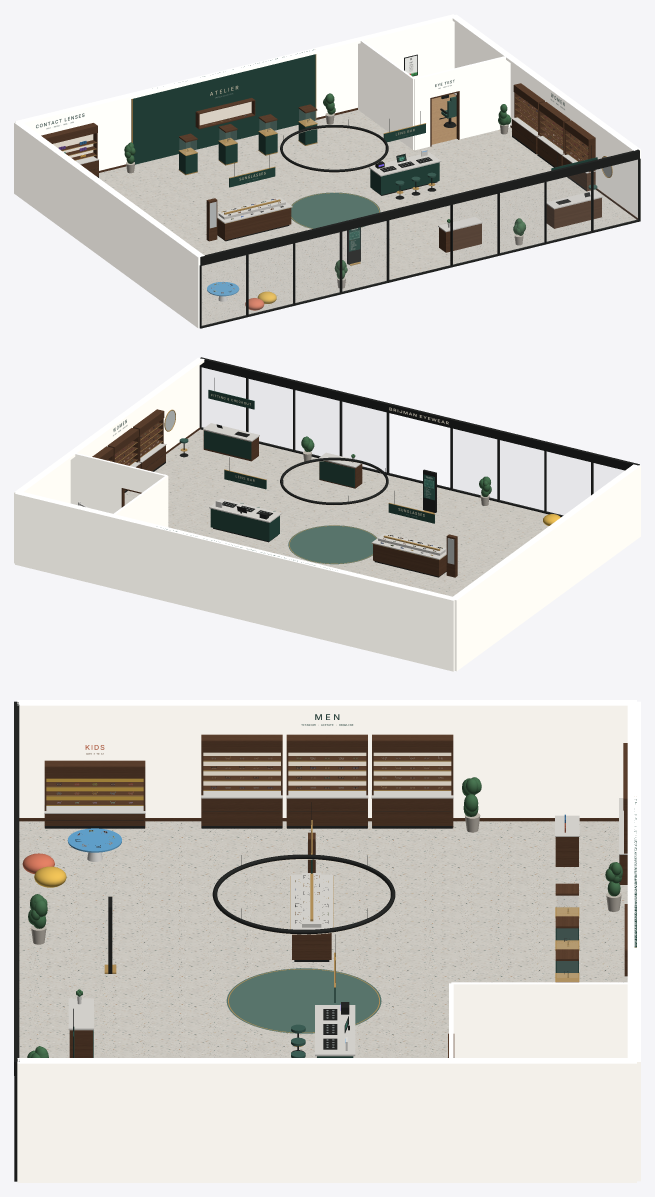
Rendered from Brijman_Showroom.glb.
The picture shows the model from 3 angles, top to bottom: view 1: azimuth 30°, elevation 25°; view 2: azimuth 150°, elevation 25°; view 3: azimuth 270°, elevation 25°; orthographic projection. The views are drawn at different scales.
Visible parts, largest first — view 1: Floor_Terrazzo, Store_Shell_Walls, Atelier_Feature_Wall_Green_Fluted, Eye_Test_Room_Walls, Storefront_Black_Metal, Ring_Light_and_Rug_Rug, Sunglasses_Island_Walnut, Women_Wall_Bay_1_Walnut, Women_Wall_Bay_2_Walnut, Women_Wall_Bay_3_Walnut, Lens_Bar_Green_Fluted, Contacts_Wall_Bay_Walnut (+9 smaller); view 2: Store_Shell_Walls, Floor_Terrazzo, Storefront_Black_Metal, Eye_Test_Room_Walls, Ring_Light_and_Rug_Rug, Sunglasses_Island_Walnut, Lens_Bar_Green_Fluted, Women_Wall_Bay_3_Walnut, Checkout_Counter_Green_Fluted, Sunglasses_Island_Stone, Women_Wall_Bay_2_Walnut, Ring_Light_and_Rug_Black_Metal (+3 smaller); view 3: Store_Shell_Walls, Floor_Terrazzo, Eye_Test_Room_Walls, Ring_Light_and_Rug_Rug, Men_Wall_Bay_1_Walnut, Men_Wall_Bay_3_Walnut, Men_Wall_Bay_2_Walnut, Kids_Wall_Bay_Walnut, Storefront_Black_Metal, Sunglasses_Island_Stone, Ring_Light_and_Rug_Black_Metal, Lens_Bar_Stone (+12 smaller).
Part boxes in pixels (x1,y1,x2,y2): Floor_Terrazzo: [99, 110, 636, 325]; Store_Shell_Walls: [14, 14, 640, 328]; Atelier_Feature_Wall_Green_Fluted: [133, 49, 315, 164]; Eye_Test_Room_Walls: [358, 39, 510, 150]; Storefront_Black_Metal: [199, 149, 640, 328]; Ring_Light_and_Rug_Rug: [291, 192, 380, 228]; Sunglasses_Island_Walnut: [206, 198, 291, 241]; Women_Wall_Bay_1_Walnut: [512, 83, 544, 154]; Women_Wall_Bay_2_Walnut: [537, 102, 570, 166]; Women_Wall_Bay_3_Walnut: [562, 120, 595, 191]; Lens_Bar_Green_Fluted: [370, 162, 439, 195]; Contacts_Wall_Bay_Walnut: [41, 123, 98, 176]; Store_Shell_Walls: [14, 357, 640, 671]; Floor_Terrazzo: [124, 429, 548, 596]; Storefront_Black_Metal: [199, 357, 639, 516]; Eye_Test_Room_Walls: [70, 452, 168, 526]; Ring_Light_and_Rug_Rug: [288, 525, 377, 564]; Sunglasses_Island_Walnut: [373, 534, 457, 577]; Lens_Bar_Green_Fluted: [210, 509, 279, 541]; Women_Wall_Bay_3_Walnut: [133, 409, 165, 471]; Checkout_Counter_Green_Fluted: [204, 430, 251, 459]; Sunglasses_Island_Stone: [371, 533, 446, 559]; Women_Wall_Bay_2_Walnut: [107, 428, 140, 490]; Ring_Light_and_Rug_Black_Metal: [280, 457, 388, 504]; Store_Shell_Walls: [17, 700, 640, 1182]; Floor_Terrazzo: [19, 821, 627, 1057]; Eye_Test_Room_Walls: [449, 982, 636, 1061]; Ring_Light_and_Rug_Rug: [226, 968, 381, 1033]; Men_Wall_Bay_1_Walnut: [372, 734, 453, 827]; Men_Wall_Bay_3_Walnut: [201, 734, 282, 827]; Men_Wall_Bay_2_Walnut: [286, 734, 367, 827]; Kids_Wall_Bay_Walnut: [44, 760, 145, 827]; Storefront_Black_Metal: [14, 701, 19, 1181]; Sunglasses_Island_Stone: [290, 873, 332, 929]; Ring_Light_and_Rug_Black_Metal: [212, 854, 395, 934]; Lens_Bar_Stone: [315, 1005, 355, 1056].
Size of the model in its own units: 22.2 by 3.43 by 16.19.
85 materials, 25 textured.
